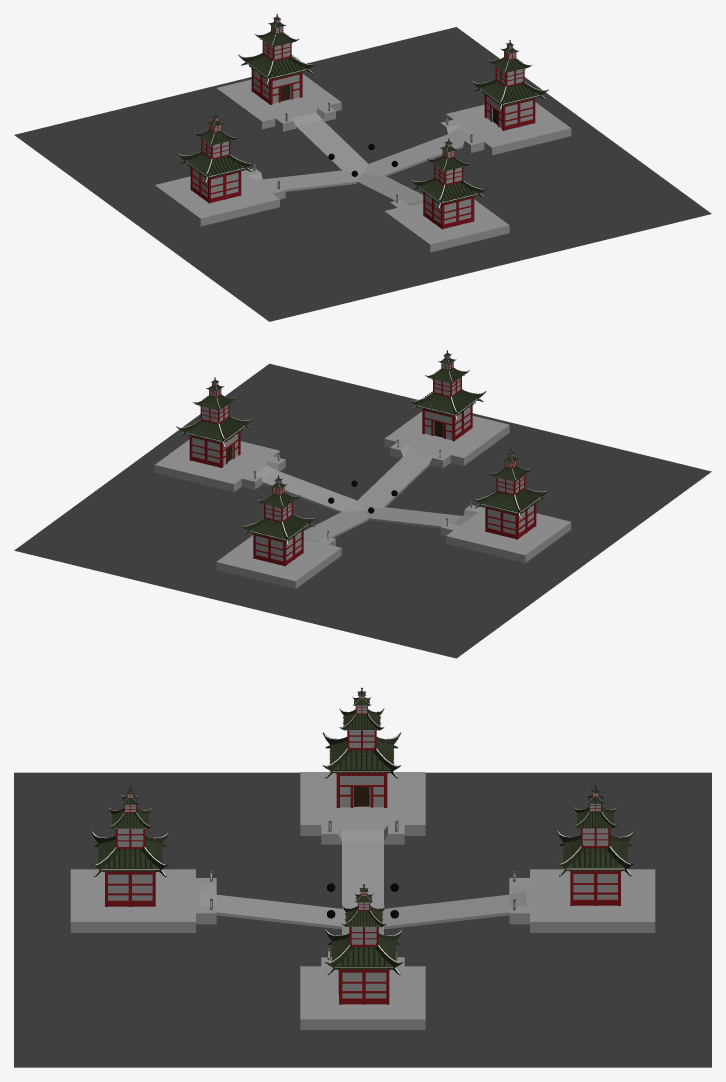
File: SamuraiCutLevelLightTesting2.fbx
The picture shows the model from 3 angles, top to bottom: view 1: azimuth 30°, elevation 25°; view 2: azimuth 150°, elevation 25°; view 3: azimuth 270°, elevation 25°; orthographic projection. The views are drawn at different scales.
Visible parts, largest first — view 1: Plane, Cube.015; view 2: Plane, Cube.015; view 3: Plane, Cube.015.
Part boxes in pixels (x1,y1,x2,y2): Plane: [14, 27, 711, 321]; Cube.015: [154, 14, 571, 252]; Plane: [14, 363, 711, 658]; Cube.015: [154, 350, 571, 589]; Plane: [14, 772, 711, 1067]; Cube.015: [70, 687, 655, 1029].
Bounding box in the file's own units: 3343 × 725 × 3343.
